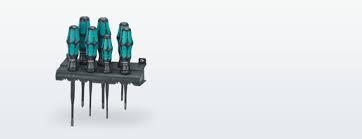screwdriver: (98, 16, 110, 118), (119, 28, 132, 110), (66, 24, 76, 125), (87, 25, 96, 116), (79, 16, 85, 107)
